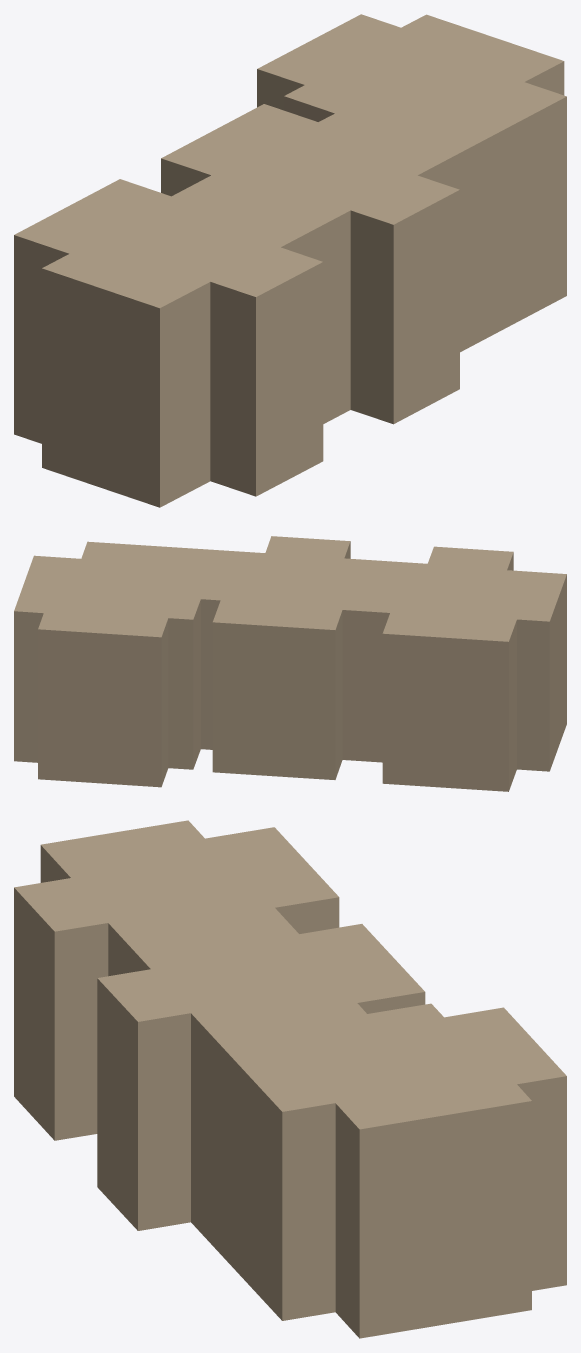
File: bld_106306772.dae
3 renders of one model, top to bottom at view 1: azimuth 30°, elevation 25°; view 2: azimuth 150°, elevation 25°; view 3: azimuth 270°, elevation 25°, orthographic. The views are drawn at different scales.
Visible parts, largest first — view 1: bld_106306772; view 2: bld_106306772; view 3: bld_106306772.
Part boxes in pixels (x1,y1,x2,y2): bld_106306772: (14, 14, 566, 507); bld_106306772: (14, 536, 566, 791); bld_106306772: (14, 820, 566, 1338).
Size of the model in its own units: 25.36 by 19.17 by 8.
